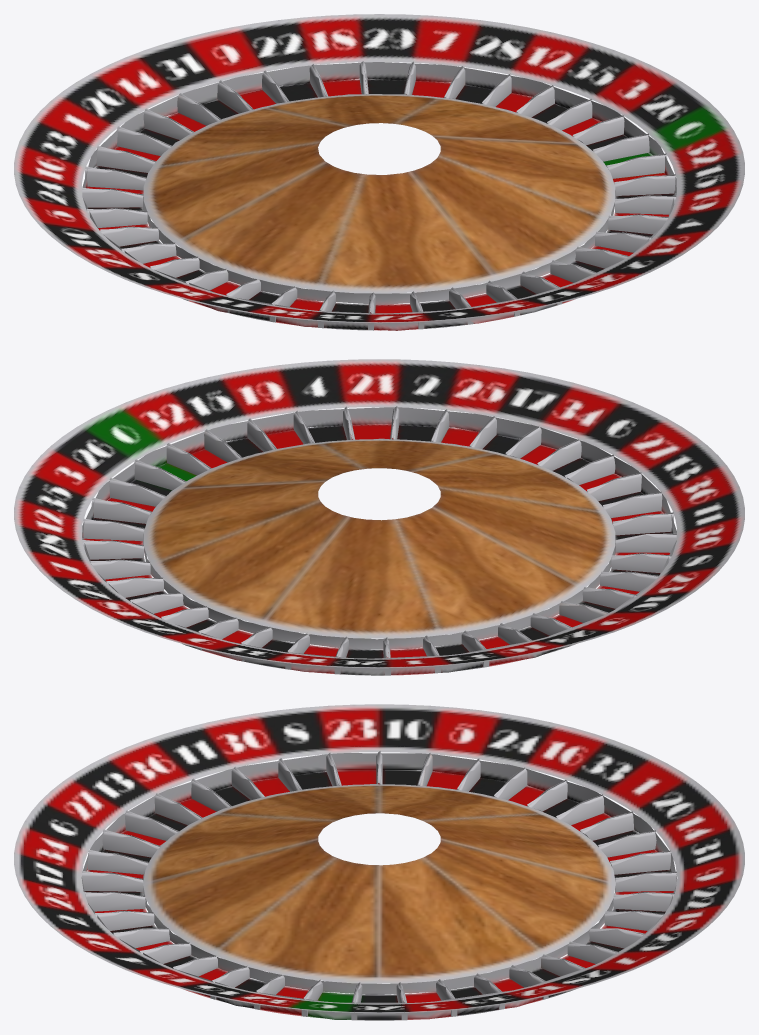
Rendered from roulette_spinner.glb.
3 views of the same model, one above another, from view 1: azimuth 30°, elevation 25°; view 2: azimuth 150°, elevation 25°; view 3: azimuth 270°, elevation 25° (orthographic).
Visible parts, largest first — view 1: circle; view 2: circle; view 3: circle.
Part boxes in pixels (x1,y1,x2,y2): circle: (14, 14, 744, 330); circle: (14, 359, 744, 675); circle: (14, 704, 744, 1020).
Bounding box in the file's own units: 0.9347 × 0.0785 × 0.9342.
1 material, 1 textured.
